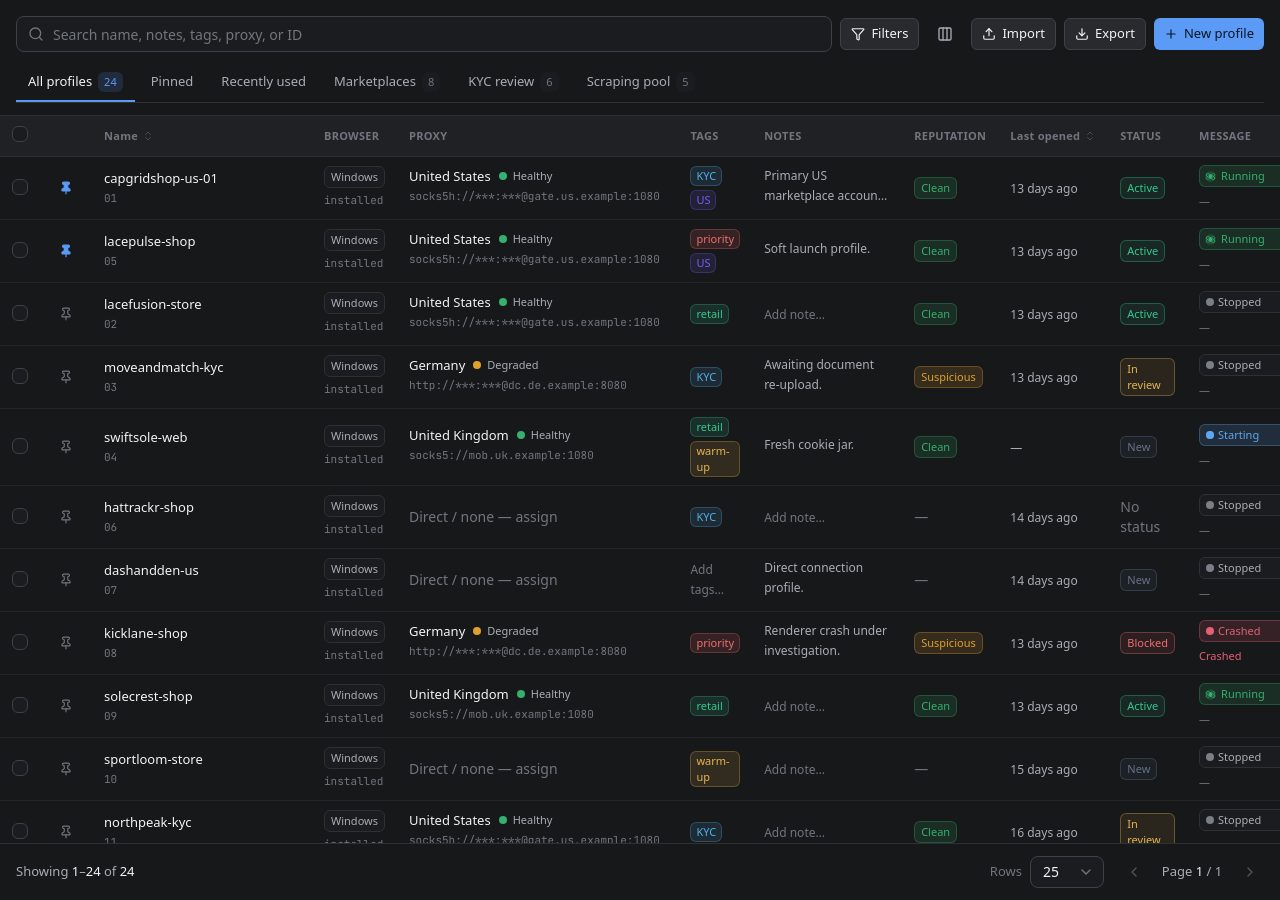
Test: ProfilesPage › filters the table via the search box
Expected: the button "capgridshop-us-01" is shown, [104,168,218,188]
Type "lacefusion" into the search field named "search profiles" at point(424, 34), box [16,16,832,52]
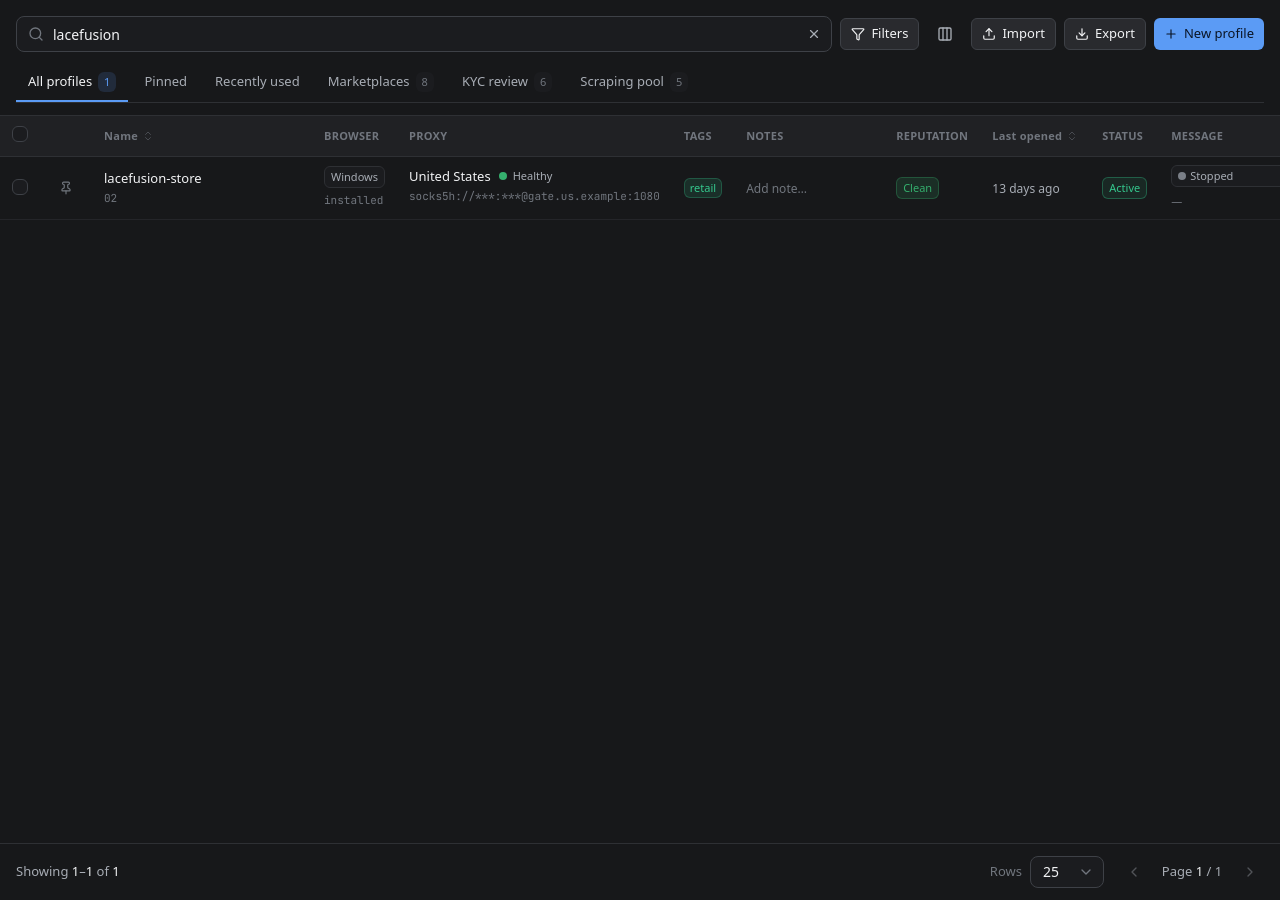
Expected: the button "lacefusion-store" is shown, [104,168,202,188]
Result: the button "capgridshop-us-01" is gone
